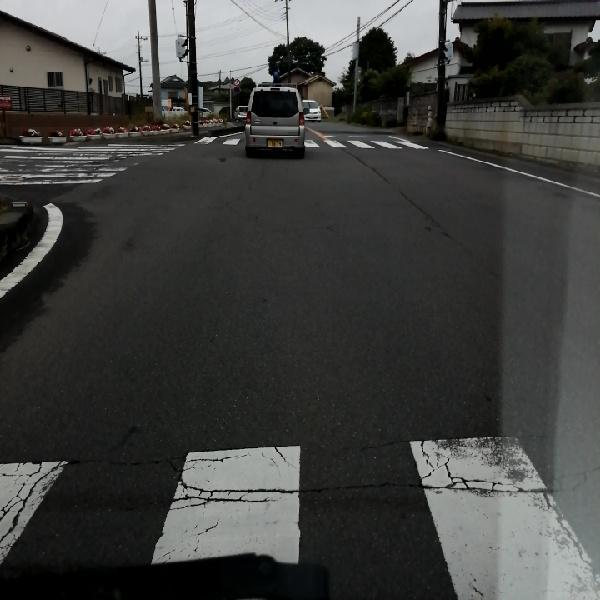D00: (217, 163, 275, 228)
D10: (293, 470, 427, 500), (59, 447, 173, 473)
D43: (11, 441, 587, 574)
